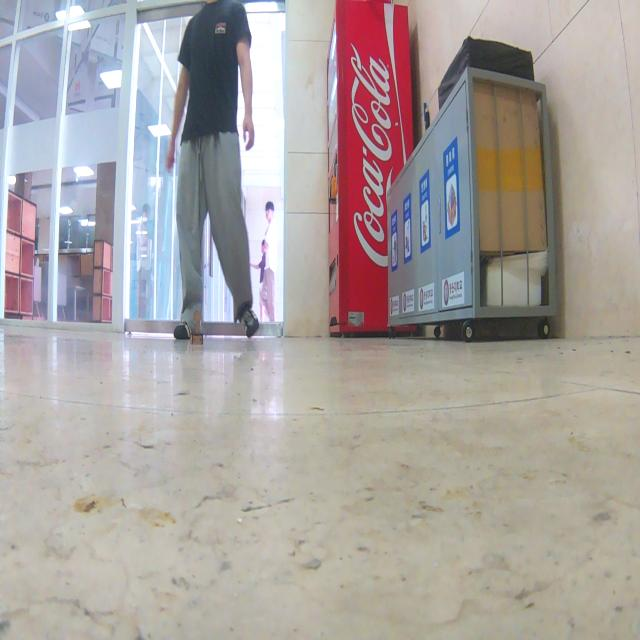target: (190, 310, 203, 346)
